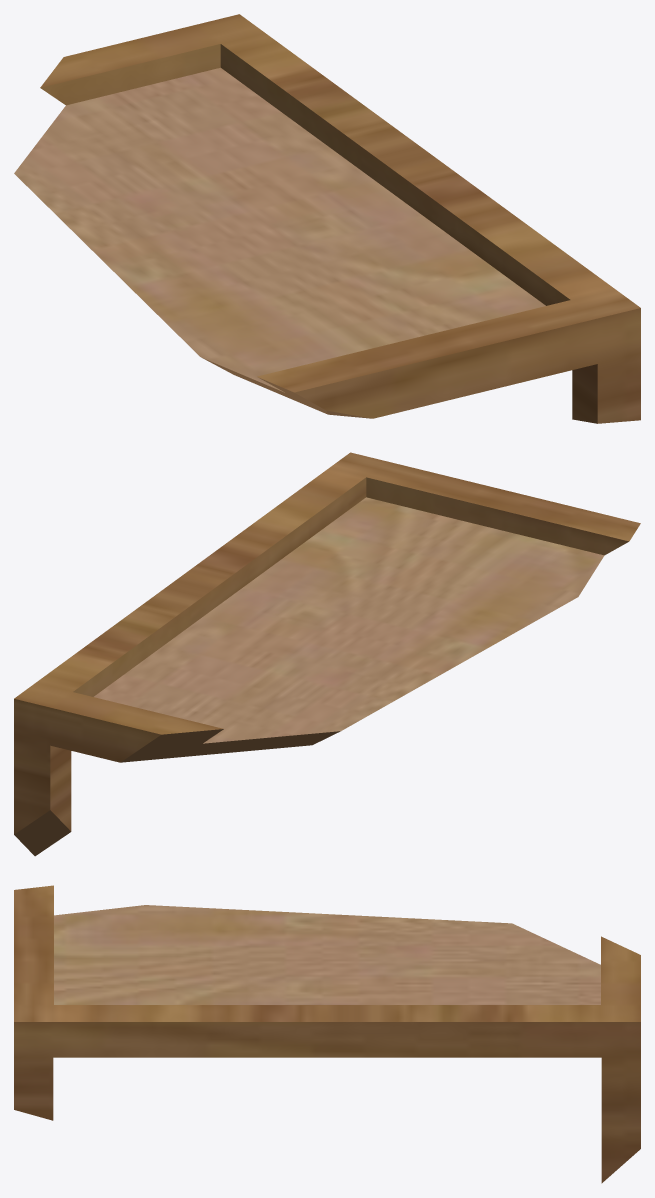
The model's file is WoodCorner.glb.
The picture shows the model from 3 angles, top to bottom: view 1: azimuth 30°, elevation 25°; view 2: azimuth 150°, elevation 25°; view 3: azimuth 270°, elevation 25°; orthographic projection. The views are drawn at different scales.
Visible parts, largest first — view 1: WoodCorner; view 2: WoodCorner; view 3: WoodCorner.
Boxes of the visible parts, bbox=[...] form: WoodCorner: bbox=[14, 14, 640, 423]; WoodCorner: bbox=[14, 452, 640, 856]; WoodCorner: bbox=[14, 885, 640, 1183].
Bounding box in the file's own units: 0.5158 × 0.2841 × 1.
Materials: 1 (1 with a texture image).
